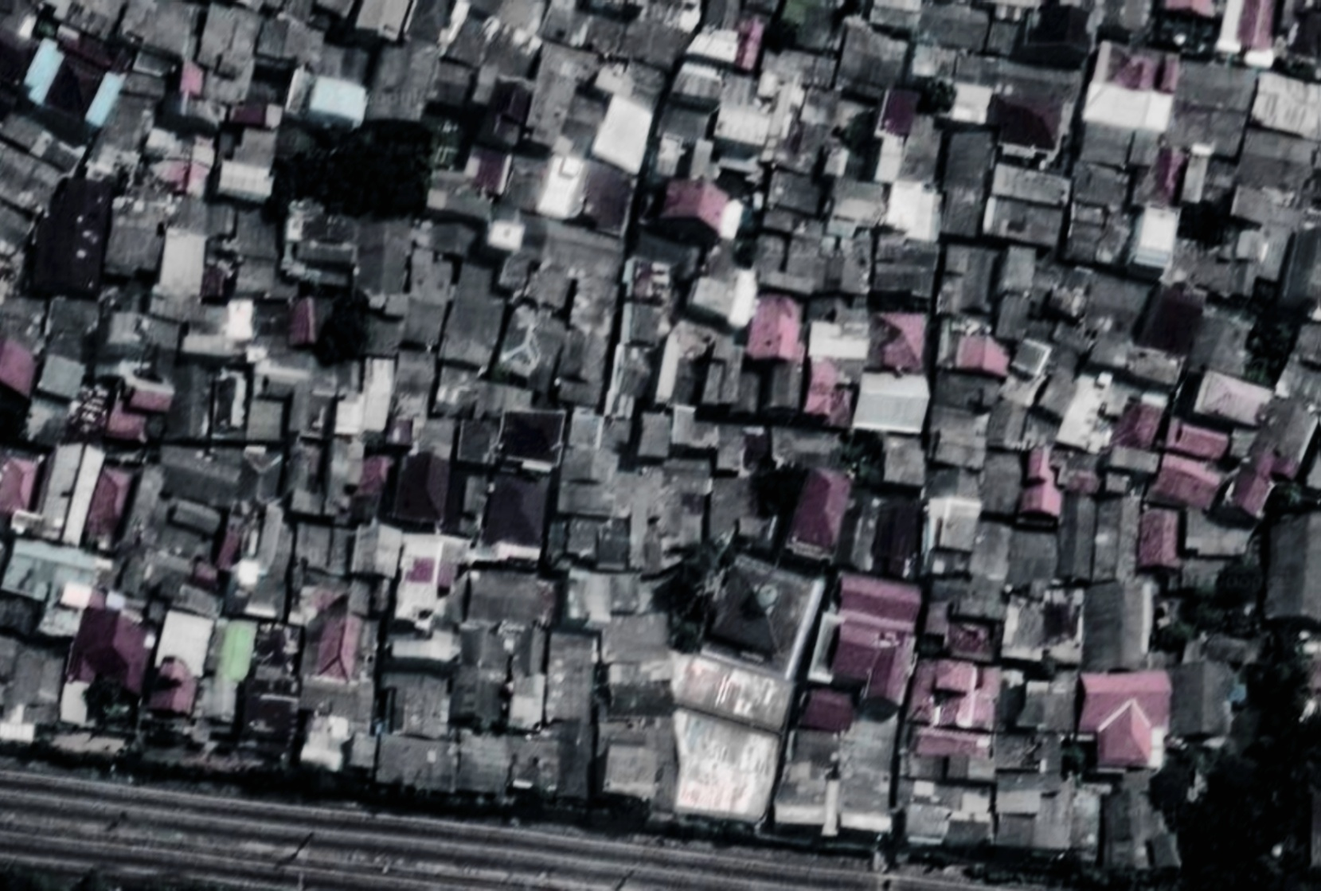building: (486, 212, 630, 407), (0, 104, 90, 294), (700, 549, 829, 680), (820, 569, 926, 717), (1217, 388, 1321, 532), (1075, 39, 1184, 174), (663, 706, 785, 823), (250, 349, 398, 441), (607, 452, 714, 578), (662, 643, 798, 733), (26, 171, 117, 303), (234, 619, 318, 749), (1076, 666, 1174, 774), (84, 66, 174, 183), (1165, 55, 1261, 162), (0, 528, 114, 618), (799, 294, 875, 429), (65, 594, 163, 698), (985, 47, 1087, 140), (905, 654, 1004, 746), (29, 434, 109, 547), (834, 704, 901, 835), (781, 459, 862, 566), (525, 217, 629, 299), (651, 168, 750, 254), (600, 612, 675, 725), (981, 161, 1074, 251), (1054, 255, 1155, 337), (188, 0, 266, 106), (770, 723, 844, 833), (993, 769, 1085, 853), (934, 125, 1000, 241), (1100, 772, 1178, 870), (196, 614, 264, 726), (364, 35, 444, 130), (1081, 573, 1157, 673), (394, 531, 469, 632), (937, 243, 1037, 318), (800, 88, 879, 181), (302, 593, 380, 685), (520, 42, 587, 149), (103, 182, 172, 283), (181, 298, 289, 361), (1171, 235, 1264, 308), (830, 564, 929, 632), (899, 775, 995, 845), (1234, 124, 1321, 201), (901, 721, 1000, 788), (481, 470, 552, 563), (436, 286, 511, 374), (832, 19, 913, 100), (685, 250, 767, 330), (619, 0, 704, 77), (1137, 275, 1213, 361), (1264, 510, 1320, 626), (702, 471, 785, 549), (1087, 331, 1186, 396), (158, 443, 254, 510), (248, 4, 329, 83), (589, 92, 664, 176), (0, 632, 68, 724), (465, 566, 559, 630), (1186, 300, 1260, 381), (401, 245, 458, 350), (1056, 373, 1126, 457), (0, 138, 69, 223), (353, 216, 416, 308), (389, 446, 457, 531), (868, 229, 943, 306), (1191, 367, 1276, 434), (79, 459, 140, 552), (571, 157, 641, 237), (1147, 449, 1228, 518), (148, 125, 221, 201), (853, 368, 933, 437), (483, 0, 550, 82), (374, 731, 461, 794), (1061, 198, 1135, 271), (1171, 658, 1237, 739), (216, 124, 281, 205), (130, 537, 202, 610), (117, 0, 202, 61), (1249, 69, 1321, 141), (984, 91, 1065, 155), (767, 110, 837, 184), (870, 493, 928, 581), (545, 630, 599, 724), (492, 316, 561, 389), (0, 296, 47, 402), (435, 0, 504, 72), (299, 675, 377, 736), (478, 74, 538, 153), (143, 651, 207, 725), (1091, 494, 1143, 585), (893, 110, 951, 191), (1239, 208, 1300, 284), (925, 404, 993, 472), (1015, 667, 1082, 735), (292, 204, 361, 270), (383, 671, 451, 737), (498, 404, 567, 469), (915, 0, 995, 56), (603, 341, 658, 422), (1017, 443, 1071, 525), (154, 607, 217, 677), (746, 292, 808, 363), (165, 362, 218, 445), (287, 564, 352, 631), (1054, 491, 1101, 583), (550, 704, 594, 801), (425, 167, 498, 225), (236, 685, 304, 747), (449, 664, 511, 732), (556, 85, 614, 157), (802, 355, 859, 428), (43, 54, 104, 122), (241, 502, 297, 576), (1217, 0, 1279, 66), (156, 227, 212, 300), (710, 95, 777, 156), (320, 433, 368, 518), (536, 148, 591, 221), (598, 740, 663, 801), (699, 332, 749, 411), (770, 0, 843, 54), (104, 310, 181, 361), (235, 209, 279, 298), (883, 178, 944, 242), (870, 309, 929, 375), (1110, 392, 1169, 458), (456, 730, 514, 797), (162, 85, 231, 141), (779, 228, 835, 297), (822, 227, 877, 297), (43, 293, 103, 356), (1129, 203, 1183, 273), (553, 324, 611, 389), (298, 708, 356, 773), (1162, 415, 1234, 467), (1183, 509, 1255, 561), (760, 44, 839, 91), (17, 36, 70, 106), (226, 568, 291, 624), (768, 424, 845, 471), (286, 372, 340, 439), (308, 72, 373, 126), (1007, 527, 1061, 592), (1068, 159, 1134, 212), (1000, 595, 1051, 663), (1065, 782, 1108, 862), (509, 732, 563, 795), (1032, 361, 1086, 424), (827, 175, 890, 229), (1280, 223, 1320, 308), (652, 328, 695, 407), (613, 56, 672, 113), (391, 349, 439, 419), (351, 519, 406, 580), (500, 150, 553, 213), (932, 367, 1003, 414), (357, 355, 399, 434), (0, 449, 45, 522), (1053, 449, 1111, 505), (979, 450, 1026, 519), (968, 517, 1017, 583), (1230, 184, 1301, 229), (521, 258, 579, 313), (563, 569, 615, 630), (953, 329, 1015, 380), (215, 617, 260, 687), (799, 683, 859, 735), (285, 439, 326, 515), (622, 255, 680, 308), (1137, 506, 1184, 571), (765, 166, 826, 216), (559, 440, 621, 489), (216, 157, 278, 206), (671, 58, 728, 111), (808, 316, 872, 363), (876, 82, 926, 141), (315, 38, 376, 86), (1273, 354, 1321, 415), (35, 350, 90, 403), (432, 364, 484, 420), (424, 213, 483, 262), (943, 615, 1001, 664), (949, 576, 1008, 624), (575, 9, 630, 60), (491, 243, 541, 299), (239, 444, 285, 504), (210, 511, 253, 575), (352, 0, 416, 43), (459, 622, 514, 672), (619, 299, 674, 349), (429, 57, 479, 112), (23, 395, 73, 450), (1148, 144, 1191, 207), (166, 494, 226, 539), (661, 452, 716, 501), (539, 0, 595, 48), (462, 145, 513, 197), (84, 68, 127, 129), (985, 396, 1031, 453), (212, 369, 251, 436), (656, 100, 714, 145), (119, 373, 177, 417), (487, 76, 537, 127), (881, 434, 928, 488), (391, 630, 461, 666), (557, 478, 618, 519), (163, 579, 224, 619), (991, 288, 1034, 344), (413, 411, 462, 460), (1008, 334, 1056, 384), (559, 513, 606, 564), (0, 334, 38, 397), (63, 0, 126, 38), (508, 672, 547, 731), (671, 405, 721, 451), (105, 398, 153, 445), (456, 418, 502, 467), (0, 26, 37, 86), (253, 350, 313, 387), (635, 409, 676, 463), (0, 199, 35, 262), (607, 569, 654, 615), (764, 361, 804, 414), (684, 136, 727, 185), (734, 13, 769, 73), (1180, 143, 1213, 205), (1100, 0, 1155, 37), (168, 193, 215, 236), (476, 382, 535, 416), (1107, 443, 1162, 479), (246, 396, 287, 444), (294, 521, 334, 570), (910, 43, 959, 83), (513, 624, 550, 676), (252, 354, 312, 386), (652, 131, 691, 180), (596, 517, 632, 570), (870, 0, 923, 36), (951, 82, 995, 125), (228, 98, 284, 131), (288, 295, 322, 348), (688, 29, 740, 63), (953, 52, 1002, 88), (567, 407, 607, 451), (38, 603, 85, 639), (716, 424, 749, 475), (1180, 557, 1232, 589), (734, 368, 767, 417), (469, 62, 503, 107), (346, 730, 381, 773), (60, 680, 90, 726), (189, 557, 226, 592), (702, 0, 743, 29), (335, 396, 365, 435), (209, 203, 237, 238), (1163, 0, 1217, 18), (179, 61, 205, 97), (235, 559, 263, 586), (316, 0, 357, 18), (648, 731, 672, 755), (749, 329, 762, 358), (125, 574, 135, 592)
tree: (299, 113, 433, 220), (1225, 767, 1321, 862), (1245, 626, 1321, 710), (1166, 794, 1245, 874), (332, 767, 449, 821), (1246, 698, 1321, 781), (239, 754, 337, 801), (1242, 827, 1312, 891), (1208, 743, 1273, 810), (315, 294, 372, 369), (665, 539, 724, 607), (1213, 552, 1271, 616), (1146, 760, 1205, 819), (598, 787, 660, 841), (1175, 192, 1228, 254), (81, 677, 140, 730), (753, 460, 805, 517), (1059, 855, 1135, 891), (1267, 478, 1315, 524), (1184, 587, 1230, 634), (660, 211, 716, 247), (331, 20, 385, 55), (269, 155, 301, 210), (1153, 617, 1195, 656), (1178, 740, 1220, 778), (666, 618, 704, 654), (1060, 740, 1098, 776), (1, 399, 27, 450), (840, 117, 876, 153), (920, 81, 958, 114), (763, 19, 798, 53), (734, 211, 768, 242), (731, 239, 763, 271), (859, 465, 890, 495), (305, 282, 344, 302), (860, 698, 891, 720), (150, 726, 179, 747), (864, 435, 885, 459)
